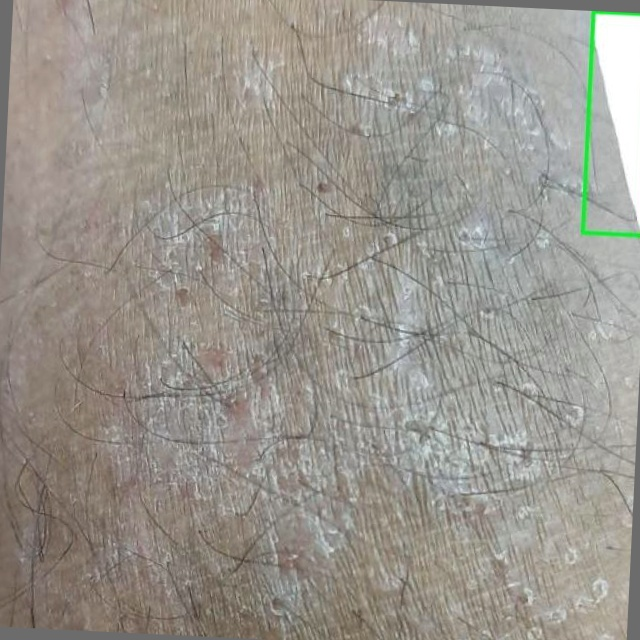Contact Dermatitis: (582, 11, 639, 235)
